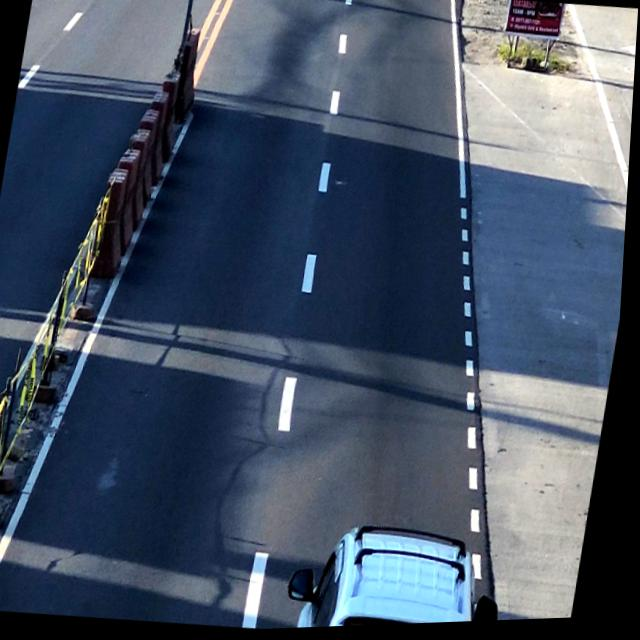Car: (298, 519, 497, 630)
